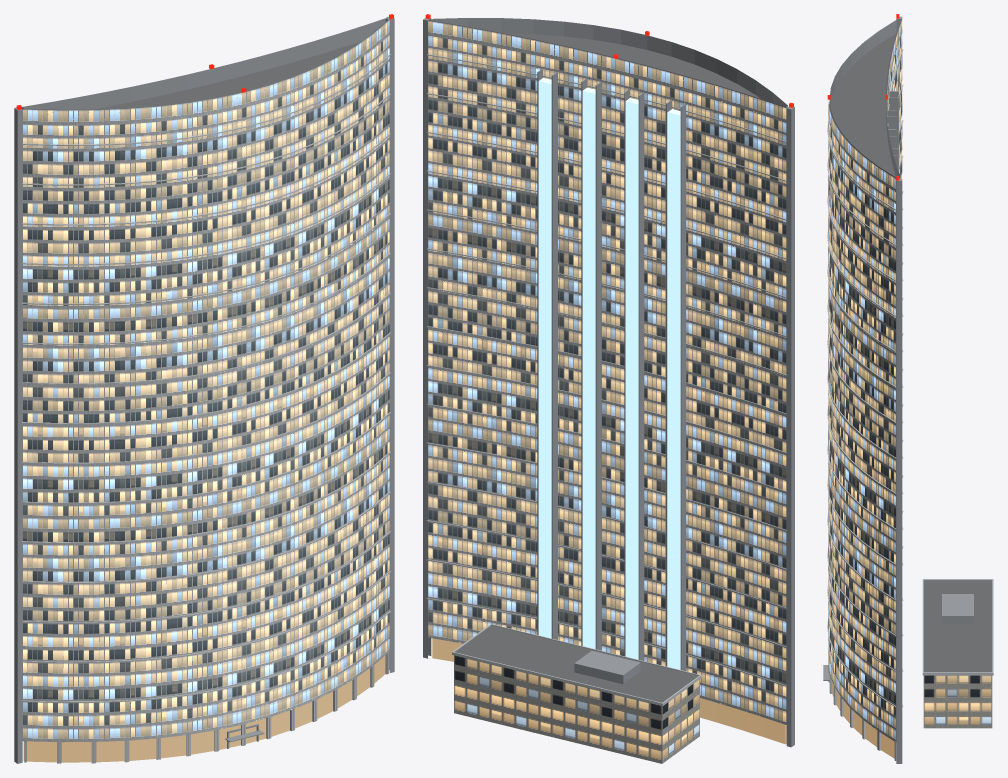
File: dentsu_building.glb
The picture shows the model from 3 angles, left to right: view 1: azimuth 30°, elevation 25°; view 2: azimuth 150°, elevation 25°; view 3: azimuth 270°, elevation 25°; orthographic projection. The views are drawn at different scales.
Parts seen in each view (by area): view 1: dentsu_building; view 2: dentsu_building; view 3: dentsu_building.
Part boxes in pixels (x1=…): dentsu_building: x1=14, y1=14, x2=394, y2=763; dentsu_building: x1=423, y1=14, x2=794, y2=763; dentsu_building: x1=823, y1=14, x2=993, y2=763.
Size of the model in its own units: 128 by 213 by 56.
3 materials, 3 textured.
